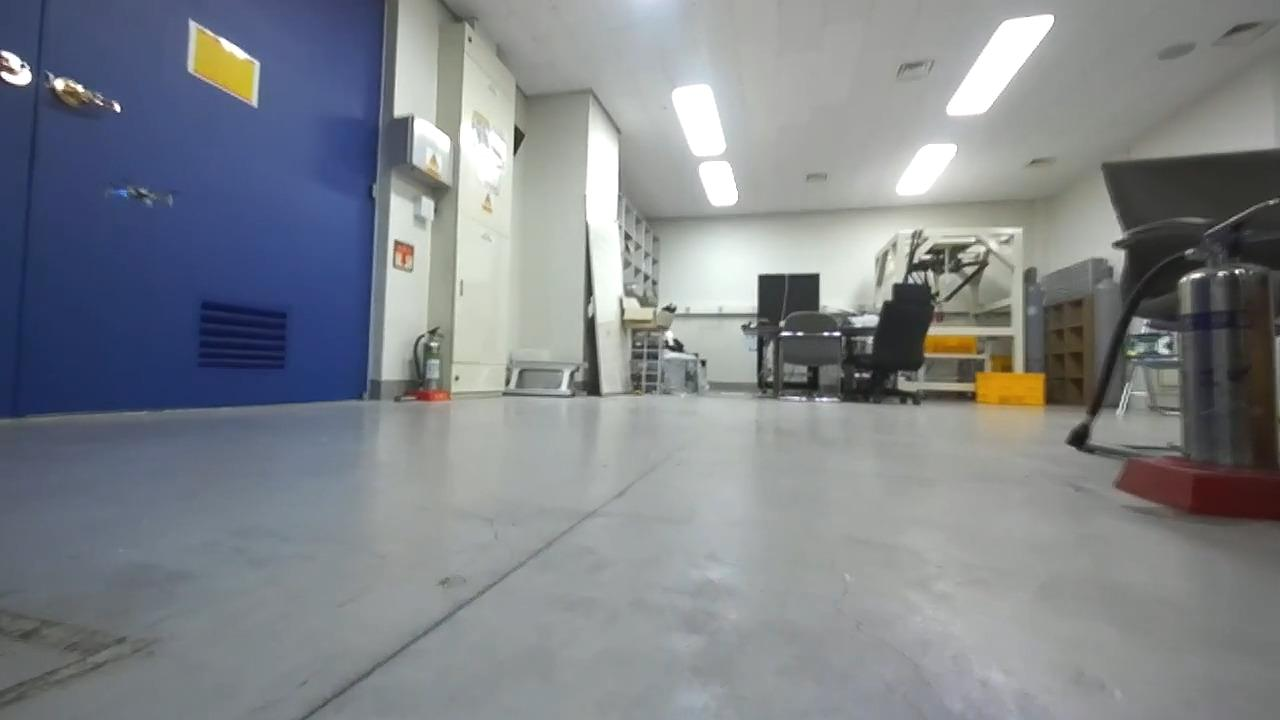crazyflie: (105, 176, 179, 213)
